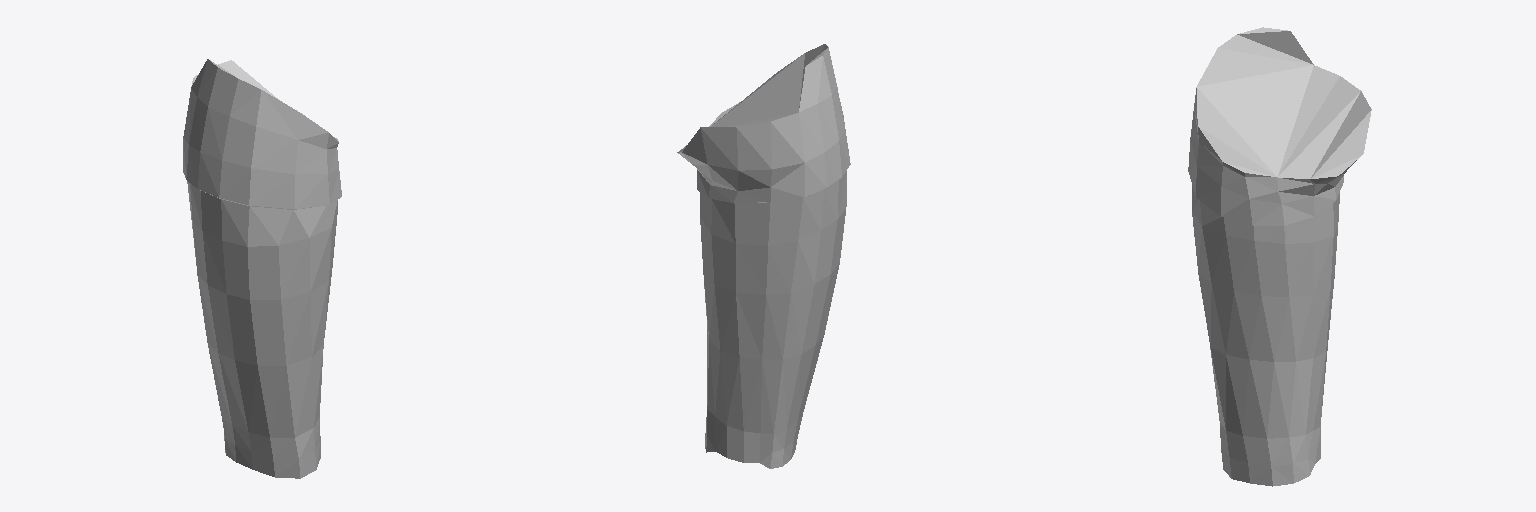
The model's file is hutao_muslo_der.obj.
The picture shows the model from 3 angles: view 1: azimuth 30°, elevation 25°; view 2: azimuth 150°, elevation 25°; view 3: azimuth 270°, elevation 25°; orthographic projection.
Visible parts, largest first — view 1: 胡桃_mesh_胡桃.019; view 2: 胡桃_mesh_胡桃.019; view 3: 胡桃_mesh_胡桃.019.
Boxes of the visible parts, <box> form: 胡桃_mesh_胡桃.019: <box>183,59,341,478</box>; 胡桃_mesh_胡桃.019: <box>677,44,850,468</box>; 胡桃_mesh_胡桃.019: <box>1188,27,1371,486</box>.
Bounding box in the file's own units: 1.76 × 5.23 × 2.11.